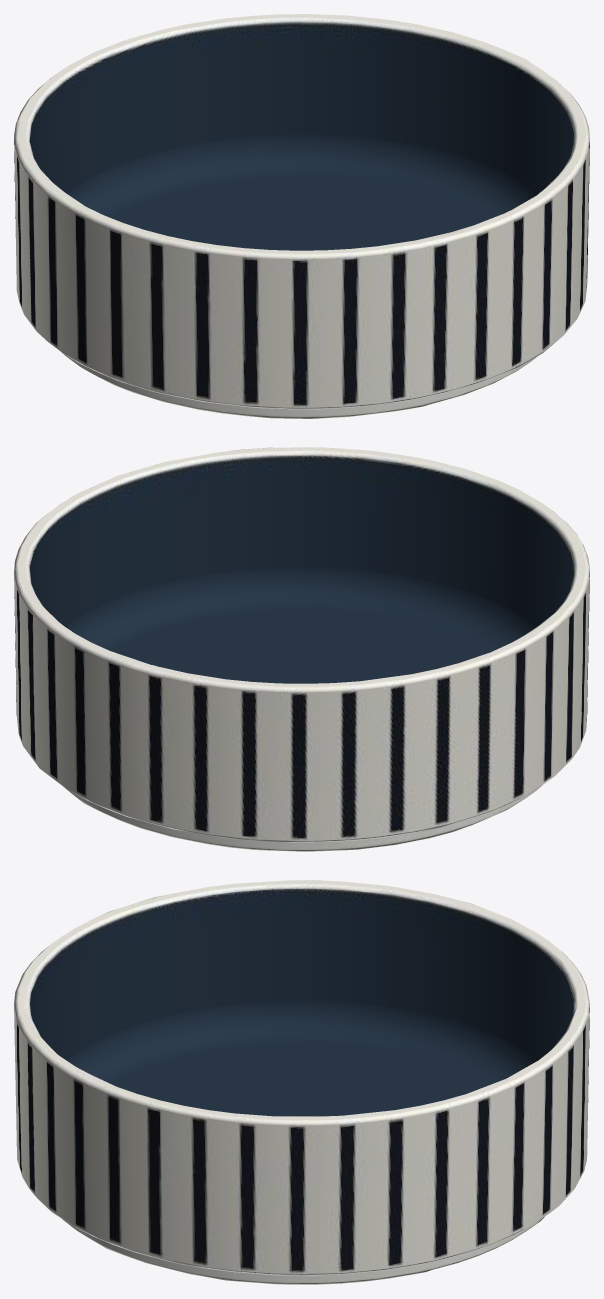
File: utsadd_miska_dla_zwierzat_50569202.glb
The picture shows the model from 3 angles, top to bottom: view 1: azimuth 30°, elevation 25°; view 2: azimuth 150°, elevation 25°; view 3: azimuth 270°, elevation 25°; orthographic projection.
Parts seen in each view (by area): view 1: utsadd_miska_dla_zwierzat_50569202; view 2: utsadd_miska_dla_zwierzat_50569202; view 3: utsadd_miska_dla_zwierzat_50569202.
Boxes of the visible parts, x1=… form: utsadd_miska_dla_zwierzat_50569202: x1=14, y1=14, x2=589, y2=418; utsadd_miska_dla_zwierzat_50569202: x1=14, y1=447, x2=589, y2=851; utsadd_miska_dla_zwierzat_50569202: x1=14, y1=880, x2=589, y2=1284.
Size of the model in its own units: 0.1499 by 0.0501 by 0.1502.
Materials: 2 (2 with a texture image).
